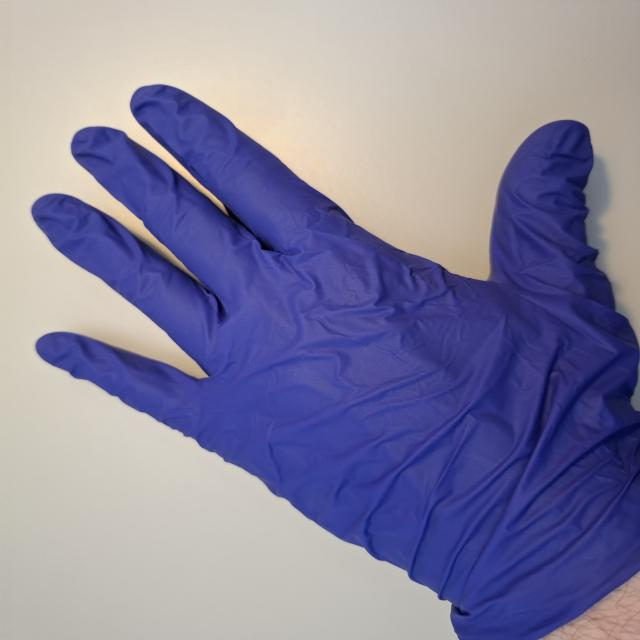glove_on: (29, 82, 640, 630)
